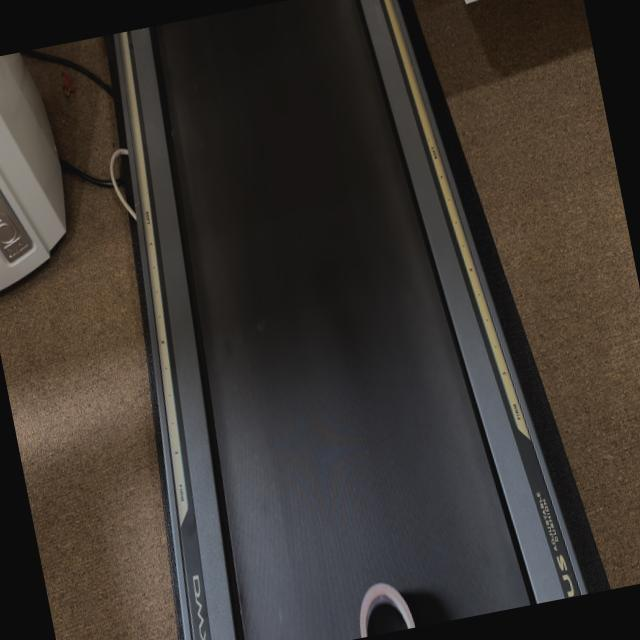Trash: (350, 578, 416, 637)
